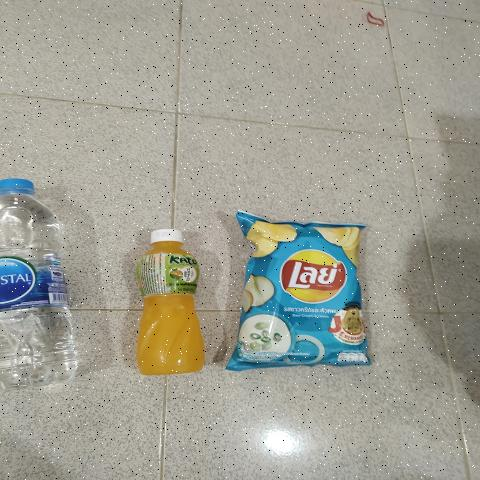crystal: (0, 169, 80, 385)
lay_blue: (239, 227, 354, 364)
